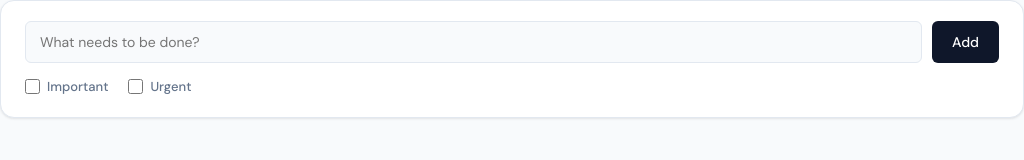
Test: TaskForm quadrant preview › should show Q1 · Do First when both urgent and important are checked
Click the checkbox labelled "Urgent": (136, 87) [128,79,143,94]
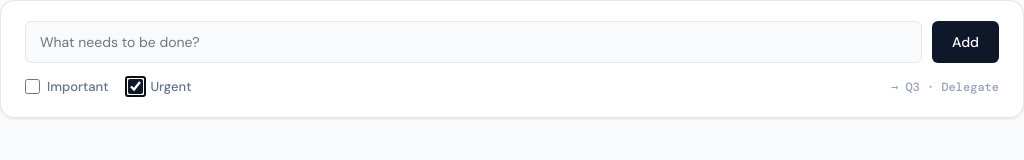
Click the checkbox labelled "Important": (32, 87) [25,79,40,94]
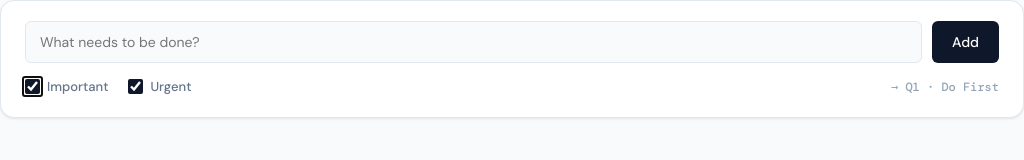
Check: the text "→ Q1 · Do First" is shown, box [891,78,999,96]
